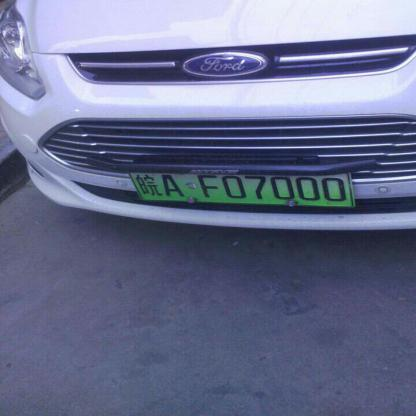lp: (128, 172, 352, 205)
